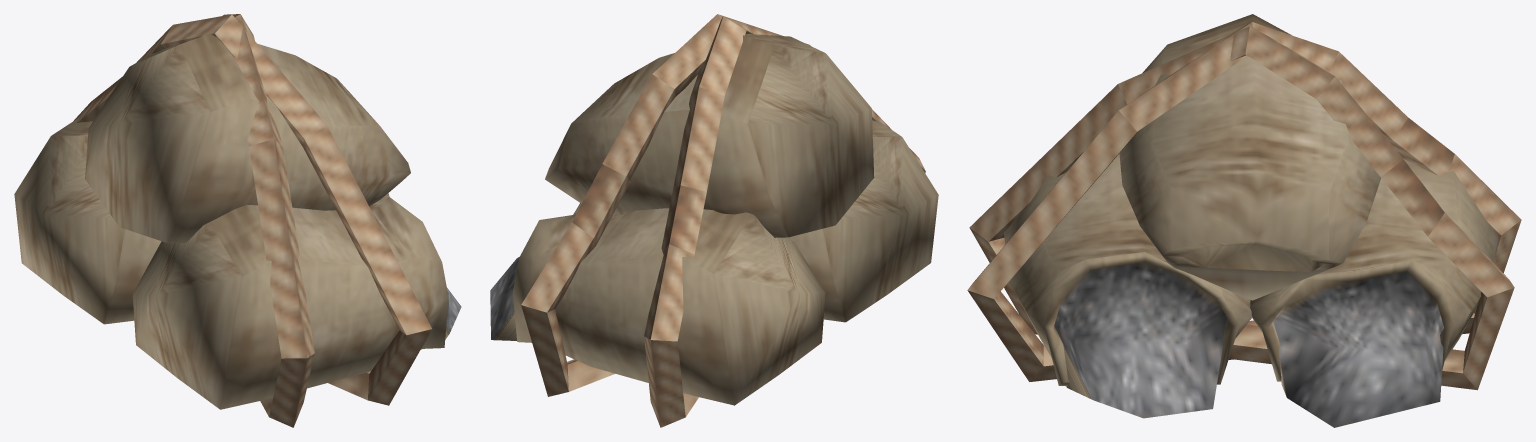
The model's file is stack_of_gravel_bags.fbx.
3 renders of one model, left to right at view 1: azimuth 30°, elevation 25°; view 2: azimuth 150°, elevation 25°; view 3: azimuth 270°, elevation 25°, orthographic. The views are drawn at different scales.
Visible parts, largest first — view 1: GravelBagStack; view 2: GravelBagStack; view 3: GravelBagStack.
Part boxes in pixels (<box>): GravelBagStack: <box>14,14,461,427</box>; GravelBagStack: <box>490,14,938,427</box>; GravelBagStack: <box>967,14,1521,427</box>.
Bounding box in the file's own units: 0.5457 × 0.5169 × 0.7741.
